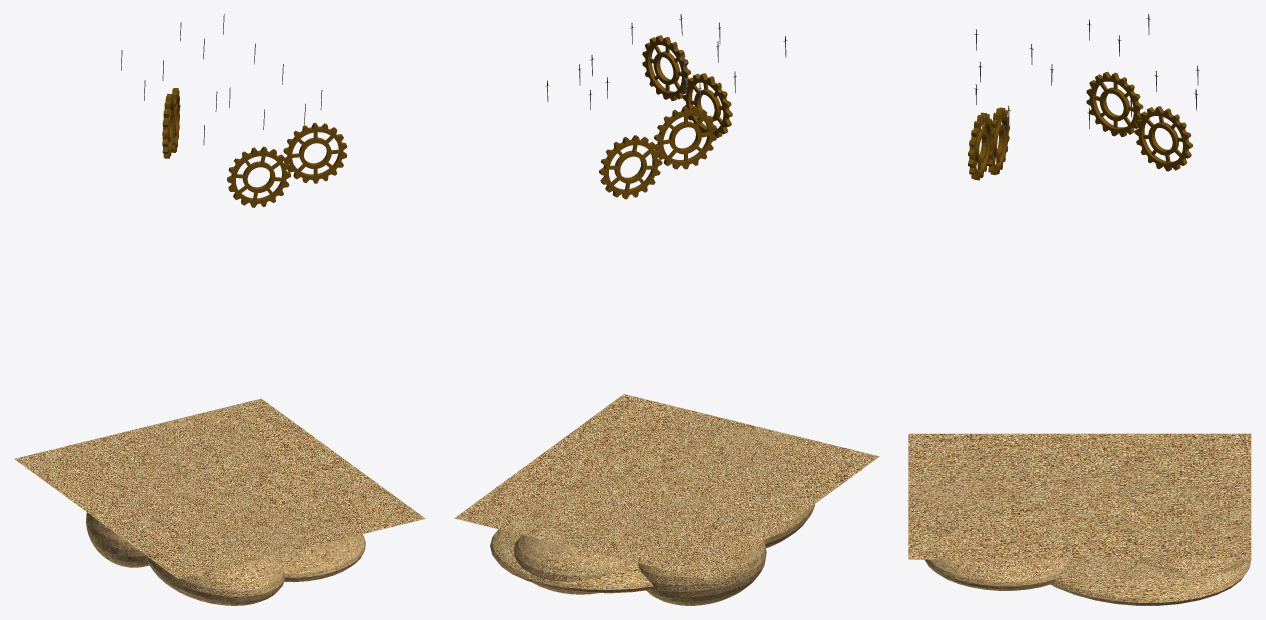
Rendered from UnlimitedBladeWorks.glb.
3 renders of one model, left to right at view 1: azimuth 30°, elevation 25°; view 2: azimuth 150°, elevation 25°; view 3: azimuth 270°, elevation 25°, orthographic. The views are drawn at different scales.
Parts seen in each view (by area): view 1: piano, Duna1, Duna5, Steampunk_Fidget_Gear_Half.003, Steampunk_Fidget_Gear_Half.002, Duna2, Steampunk_Fidget_Gear_Half; view 2: piano, Duna2, Duna3, Duna4, Steampunk_Fidget_Gear_Half.001, Steampunk_Fidget_Gear_Half, Steampunk_Fidget_Gear_Half.003, Steampunk_Fidget_Gear_Half.002, Duna1; view 3: piano, Duna4, Duna5, Steampunk_Fidget_Gear_Half.001, Steampunk_Fidget_Gear_Half, Duna3, Steampunk_Fidget_Gear_Half.003, Steampunk_Fidget_Gear_Half.002.
Boxes of the visible parts, x1,y1,x2,y2 form: piano: (14,398,425,578); Duna1: (146,555,284,605); Duna5: (278,534,365,582); Steampunk_Fidget_Gear_Half.003: (283,122,347,183); Steampunk_Fidget_Gear_Half.002: (227,146,290,207); Duna2: (86,512,149,567); Steampunk_Fidget_Gear_Half: (162,93,174,158); piano: (454,394,879,580); Duna2: (638,541,766,605); Duna3: (514,535,632,594); Duna4: (490,529,653,593); Steampunk_Fidget_Gear_Half.001: (599,135,662,199); Steampunk_Fidget_Gear_Half: (654,106,716,169); Steampunk_Fidget_Gear_Half.003: (642,35,690,100); Steampunk_Fidget_Gear_Half.002: (682,73,732,137); Duna1: (764,504,814,548); piano: (908,433,1251,559); Duna4: (1050,558,1251,605); Duna5: (925,559,1068,590); Steampunk_Fidget_Gear_Half.001: (1134,106,1192,171); Steampunk_Fidget_Gear_Half: (1086,72,1143,137); Duna3: (1135,559,1247,573); Steampunk_Fidget_Gear_Half.003: (968,112,992,180); Steampunk_Fidget_Gear_Half.002: (987,107,1009,174).
Bounding box in the file's own units: 11.99 × 23.37 × 13.81.
53 materials, 5 textured.
